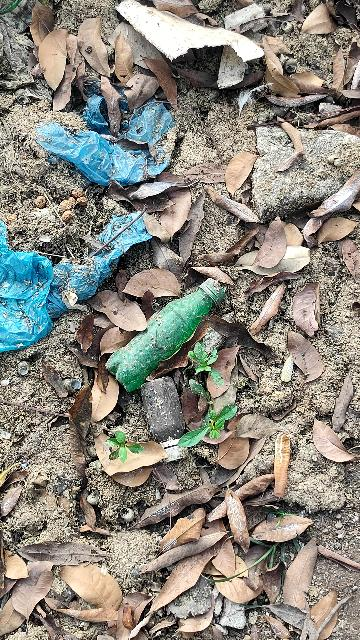bottle: (96, 259, 242, 409)
